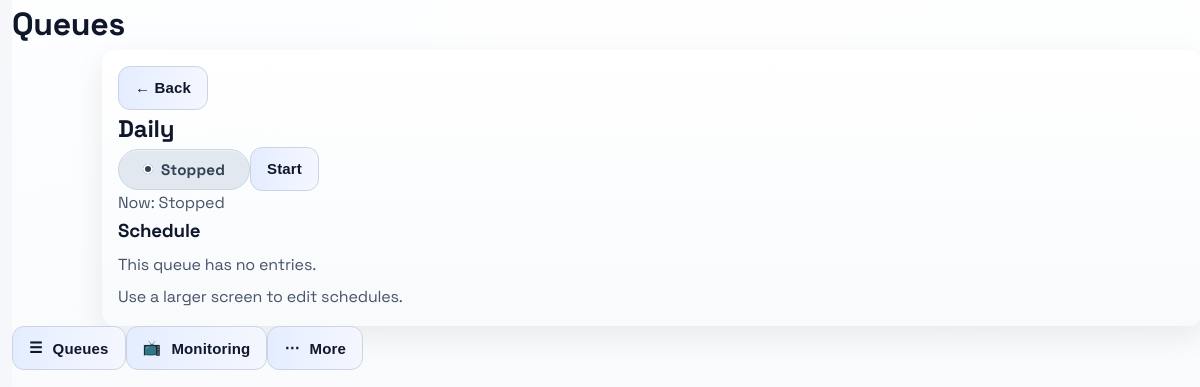
Test: App phone history › replaces the entry with the list when the detail is the first entry
Expected: the element with test id "phone-queue-detail" is shown, [118,66,403,307]
Click the button "← Back" at (163, 88), box [118,66,208,110]
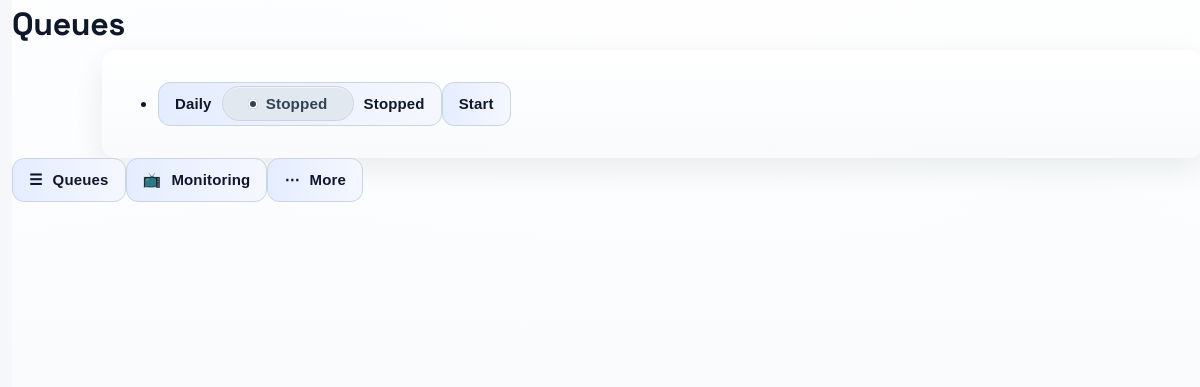
Expected: the element with test id "phone-queues" is shown, [158,82,511,126]
